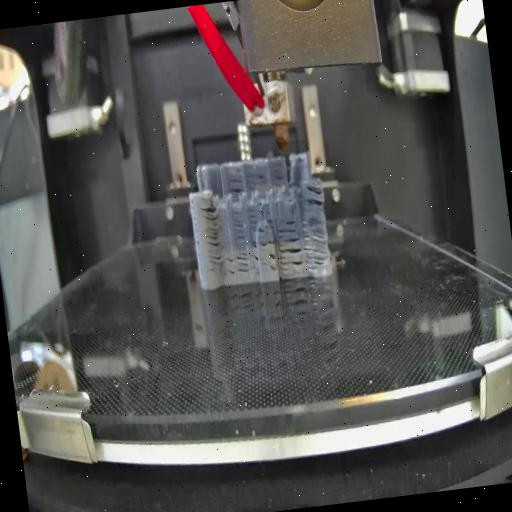cracks: (302, 218, 332, 270), (200, 204, 224, 266), (278, 236, 304, 270), (301, 185, 324, 207), (232, 211, 247, 242), (275, 217, 296, 236), (235, 252, 251, 274), (227, 178, 245, 194), (266, 252, 278, 274), (248, 205, 258, 229), (251, 241, 261, 265), (258, 236, 276, 248), (226, 256, 235, 276), (270, 170, 282, 185), (266, 205, 274, 227), (254, 172, 266, 184), (258, 225, 264, 235)
